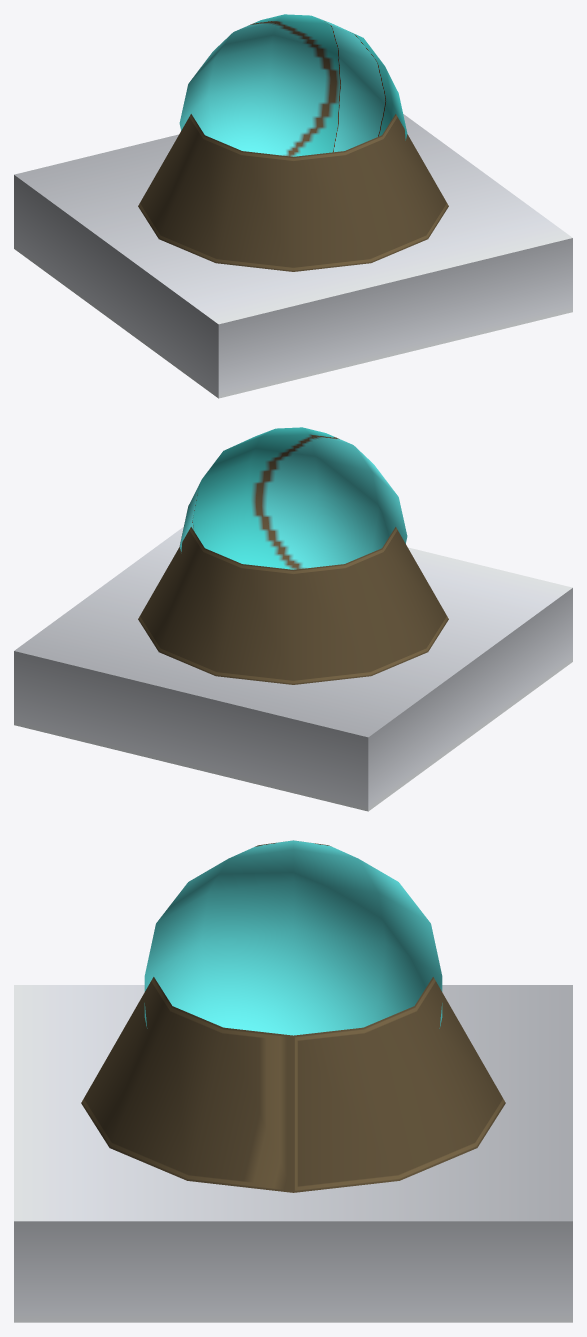
Rendered from garden_water_sluice.glb.
3 views of the same model, one above another, from view 1: azimuth 30°, elevation 25°; view 2: azimuth 150°, elevation 25°; view 3: azimuth 270°, elevation 25° (orthographic). The views are drawn at different scales.
Visible parts, largest first — view 1: garden_water_sluice; view 2: garden_water_sluice; view 3: garden_water_sluice.
Boxes of the visible parts, <box> form: garden_water_sluice: <box>14,14,572,398</box>; garden_water_sluice: <box>14,427,572,811</box>; garden_water_sluice: <box>14,840,572,1322</box>.
Size of the model in its own units: 1.8 by 1.24 by 1.8.
Materials: 1 (1 with a texture image).
